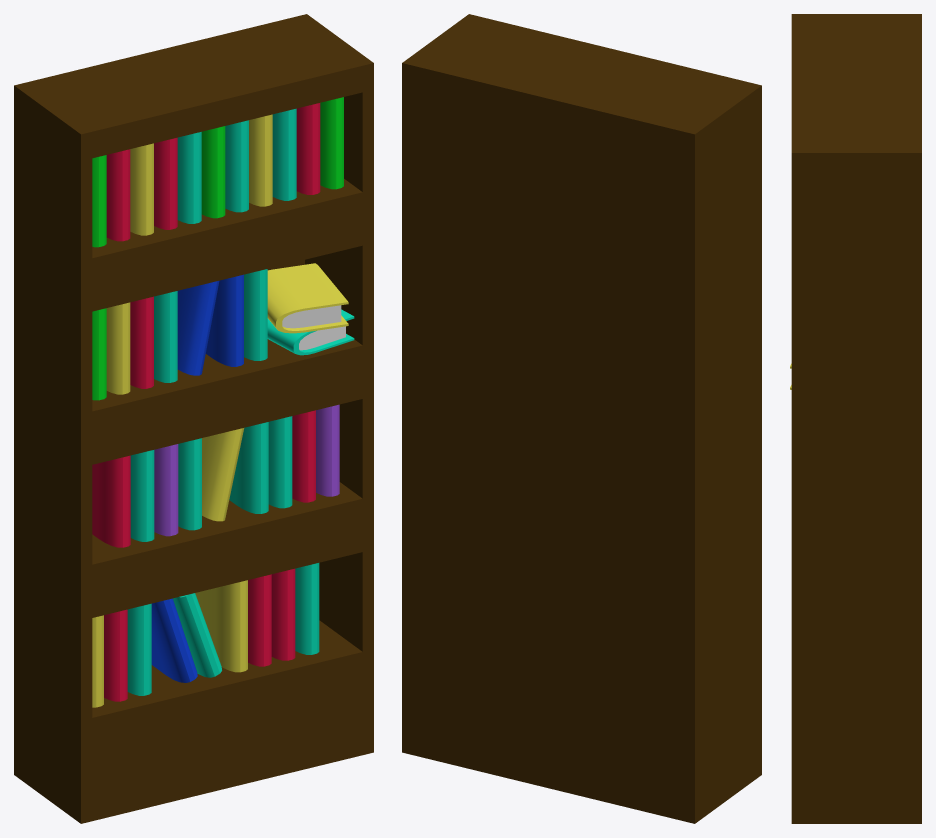
Rendered from Bookshelf.fbx.
3 views of the same model, side by side, from view 1: azimuth 30°, elevation 25°; view 2: azimuth 150°, elevation 25°; view 3: azimuth 270°, elevation 25° (orthographic). The views are drawn at different scales.
Parts seen in each view (by area): view 1: Bookshelf; view 2: Bookshelf; view 3: Bookshelf.
Boxes of the visible parts, left/top/right/bottom form: Bookshelf: left=14, top=14, right=373, bottom=823; Bookshelf: left=402, top=14, right=761, bottom=823; Bookshelf: left=790, top=14, right=921, bottom=823.
Size of the model in its own units: 200 by 450 by 80.18.
